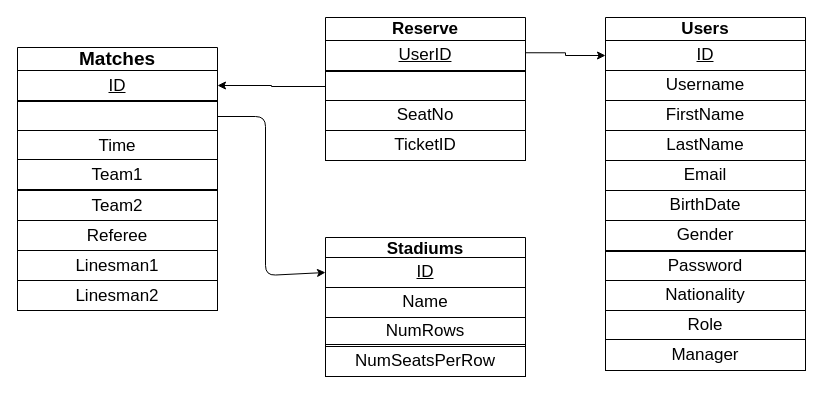
Some shapes in this 823 by 395 pixel diagram are drawn without their labels. Here are the shapes that lost their labels. From the top down, the centre of each, then its label:
the point at 425,86: MatchID
the point at 117,116: StadiumID
